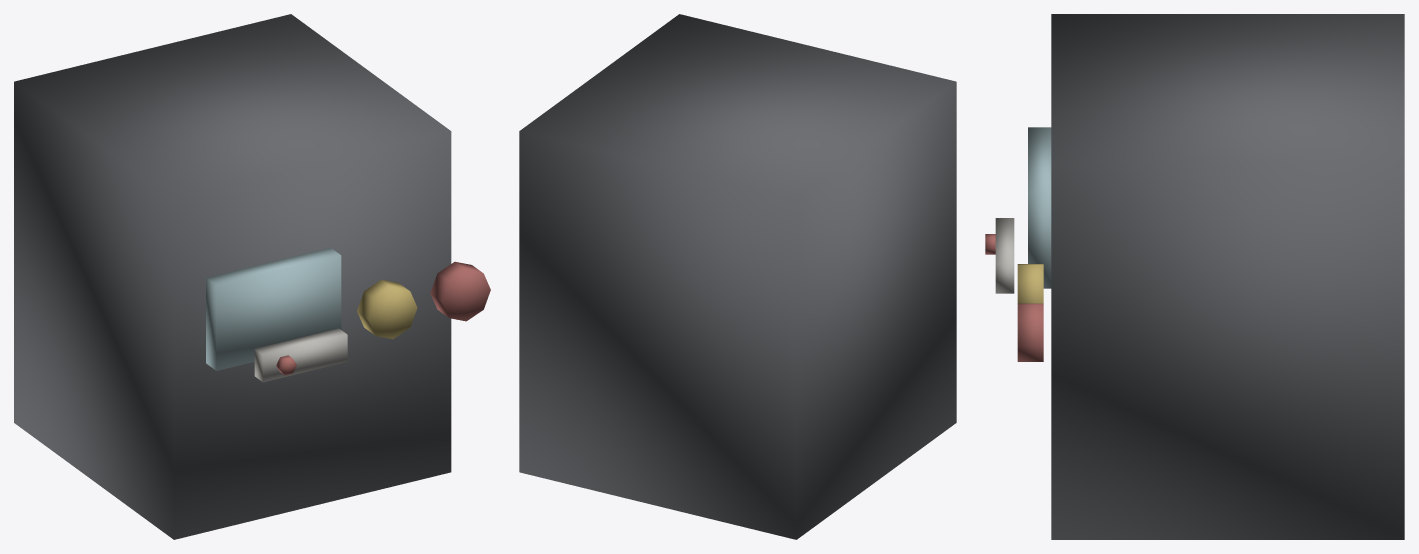
Rendered from multimeter_station.glb.
3 renders of one model, left to right at view 1: azimuth 30°, elevation 25°; view 2: azimuth 150°, elevation 25°; view 3: azimuth 270°, elevation 25°, orthographic. The views are drawn at different scales.
Parts seen in each view (by area): view 1: world; view 2: world; view 3: world.
Boxes of the visible parts, <box> form: world: <box>14,14,490,539</box>; world: <box>519,14,956,539</box>; world: <box>985,14,1404,539</box>.
Size of the model in its own units: 0.37 by 0.4 by 0.4035.
